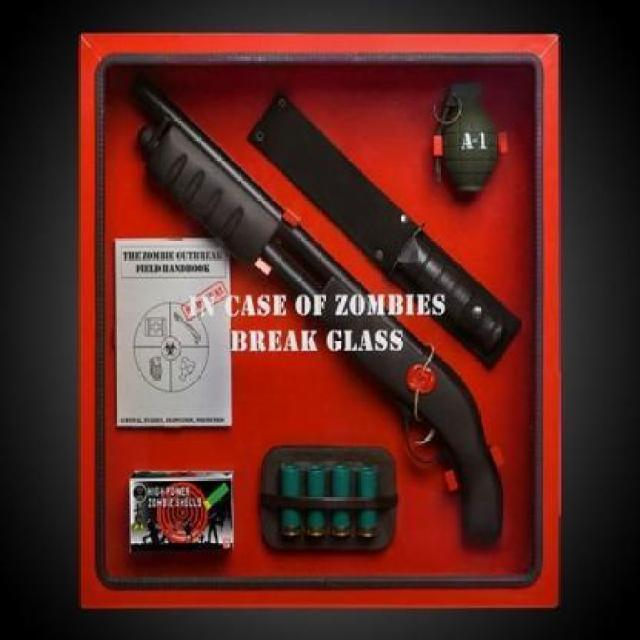Grenade: (430, 88, 508, 204)
Knife: (251, 89, 524, 374)
Rifle: (121, 68, 508, 552)
